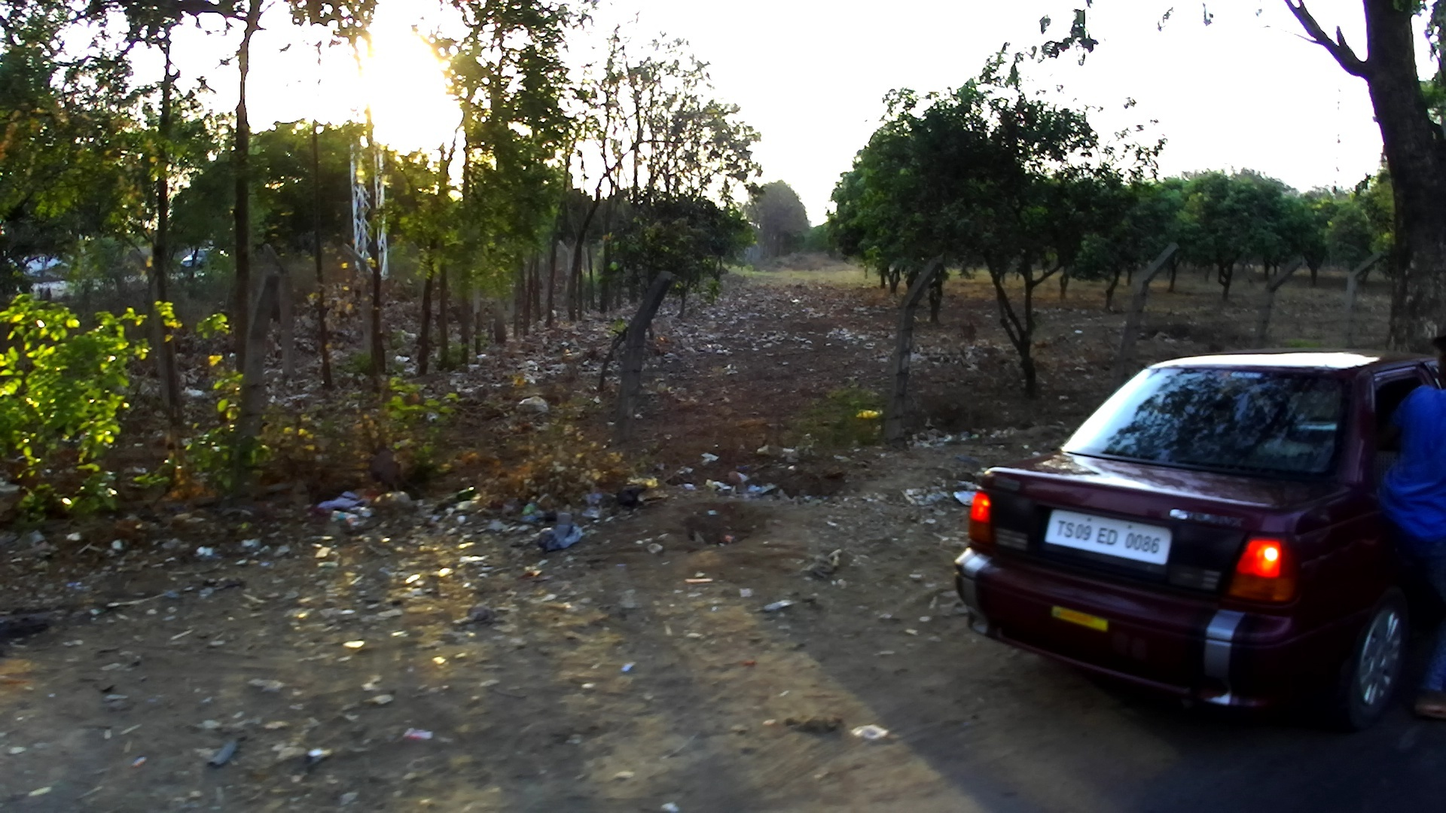car: (952, 346, 1446, 738)
person: (1367, 336, 1446, 720)
